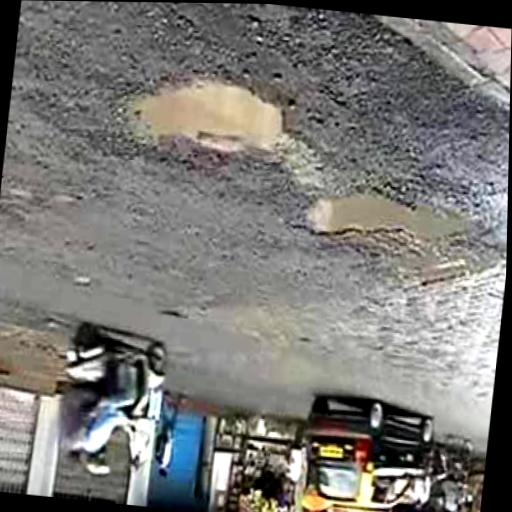pothole: (117, 77, 297, 178), (290, 189, 494, 260)
